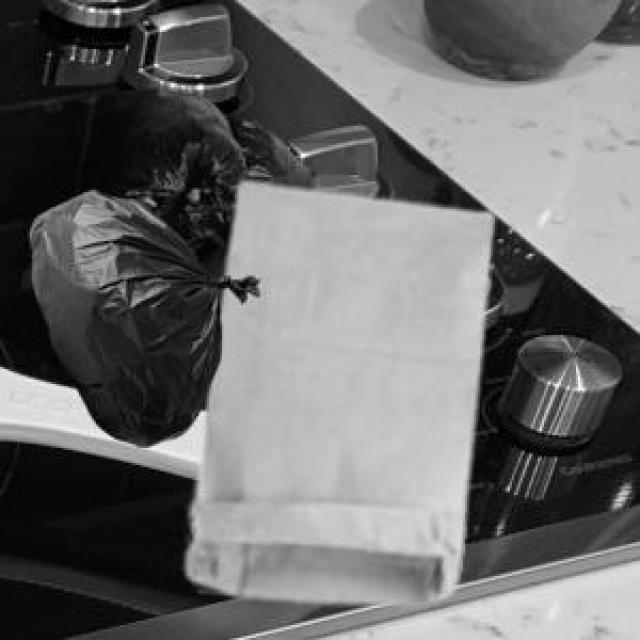miscellaneous trash: (26, 186, 256, 444), (92, 83, 313, 243)
paper: (184, 177, 489, 600)
